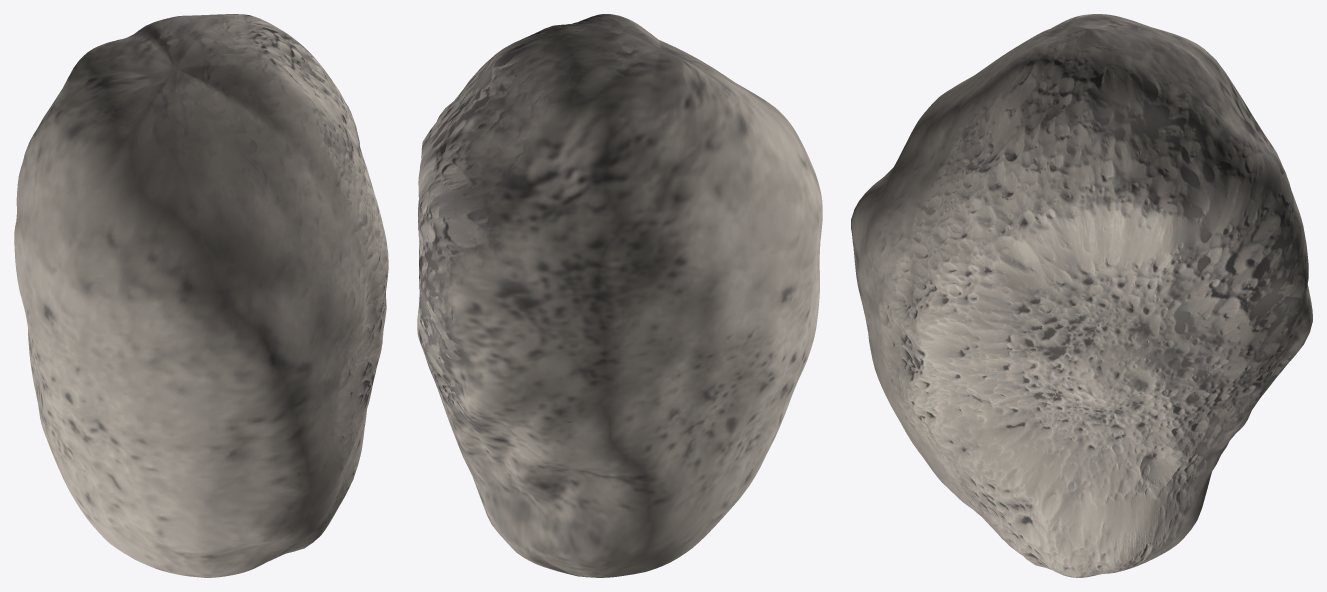
Rendered from hyperion.obj.
3 renders of one model, left to right at view 1: azimuth 30°, elevation 25°; view 2: azimuth 150°, elevation 25°; view 3: azimuth 270°, elevation 25°, orthographic. The views are drawn at different scales.
Visible parts, largest first — view 1: obj1; view 2: obj1; view 3: obj1.
Boxes of the visible parts, x1,y1,x2,y2 form: obj1: (14, 14, 388, 577); obj1: (417, 14, 822, 577); obj1: (851, 14, 1312, 577).
Size of the model in its own units: 7.26 by 11.59 by 9.19.
